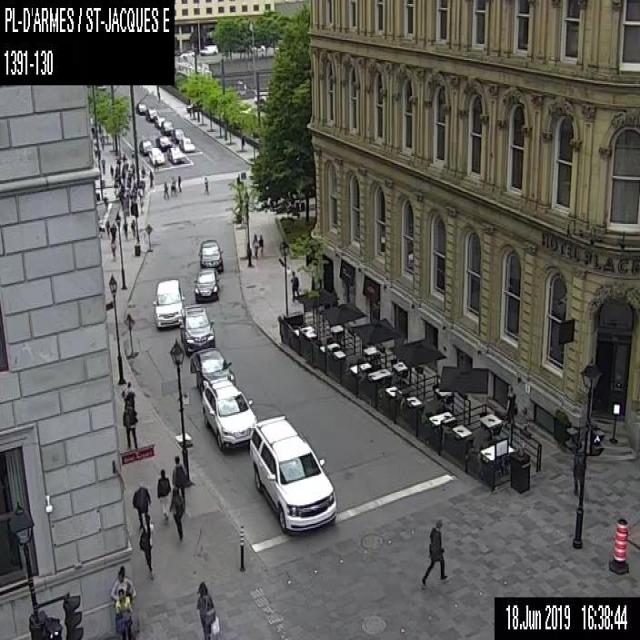construction: (607, 515, 629, 573)
pedestrian: (420, 518, 447, 586), (196, 581, 219, 639), (110, 564, 136, 606), (138, 514, 154, 579), (114, 587, 133, 639), (132, 481, 152, 528), (168, 487, 185, 540), (121, 400, 138, 448), (156, 468, 170, 525), (171, 453, 186, 501), (571, 439, 583, 493), (504, 384, 516, 424), (120, 380, 135, 402), (289, 269, 299, 302), (170, 175, 177, 196), (258, 232, 264, 256), (252, 233, 258, 257), (121, 218, 128, 238), (148, 168, 154, 190), (110, 236, 116, 258), (203, 175, 210, 192), (162, 180, 168, 199), (109, 222, 116, 238), (130, 218, 136, 236), (104, 218, 109, 236), (108, 163, 114, 178), (92, 142, 97, 158), (177, 174, 181, 192), (140, 164, 145, 177), (100, 134, 104, 149)
vehicle: (249, 413, 336, 533), (201, 382, 257, 449), (188, 348, 234, 392), (177, 304, 215, 353), (152, 278, 184, 327), (192, 268, 220, 300), (198, 238, 224, 272), (166, 146, 184, 163), (154, 135, 172, 151), (178, 136, 196, 152), (148, 146, 164, 164), (138, 139, 153, 155), (160, 119, 173, 135), (198, 44, 218, 54), (170, 128, 184, 142), (144, 107, 158, 120), (154, 114, 166, 128), (135, 102, 146, 114), (186, 102, 200, 111), (179, 49, 194, 57)
